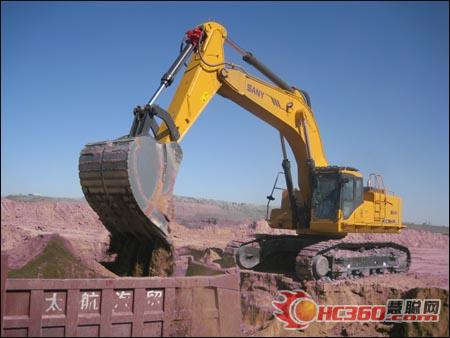excavator: (64, 17, 423, 277)
